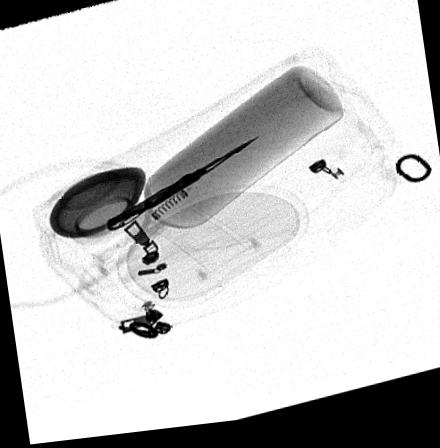Knife: (105, 140, 261, 235)
